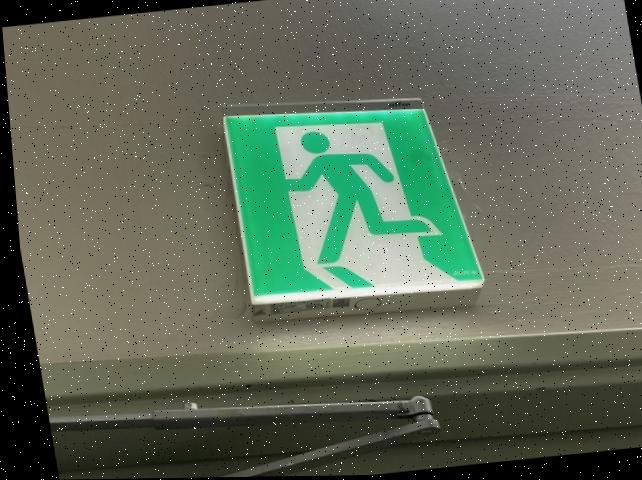emergency_exit: (222, 103, 485, 308)
